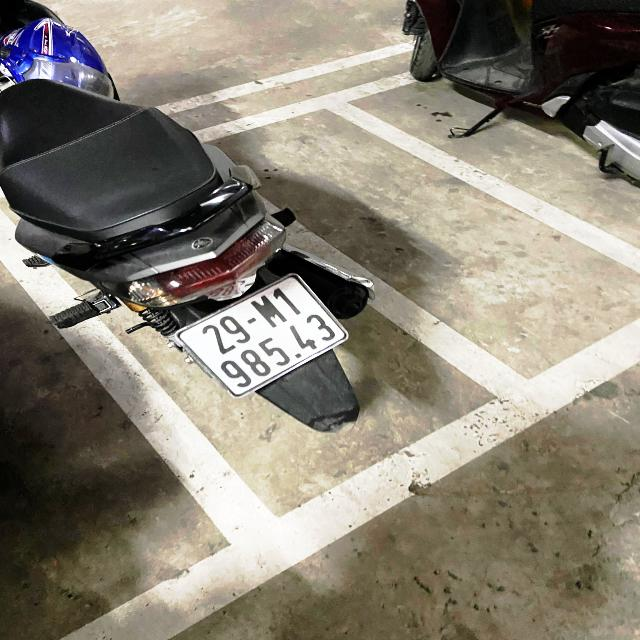license_plate: (168, 267, 357, 403)
